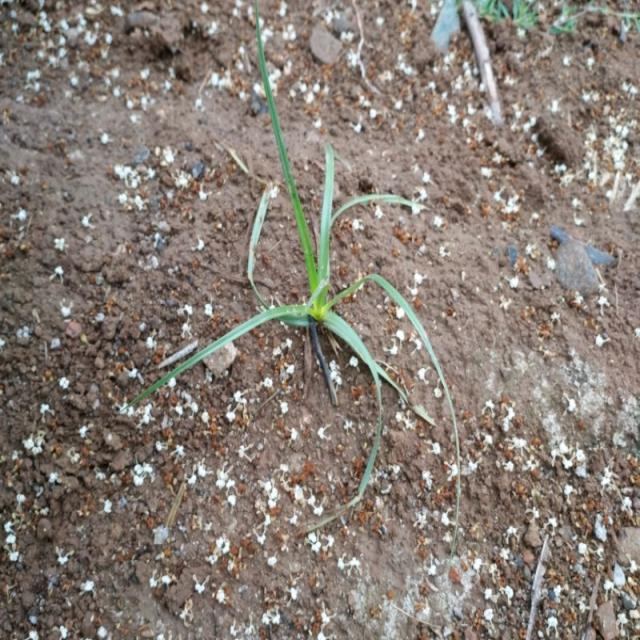sedge: (193, 68, 423, 494)
